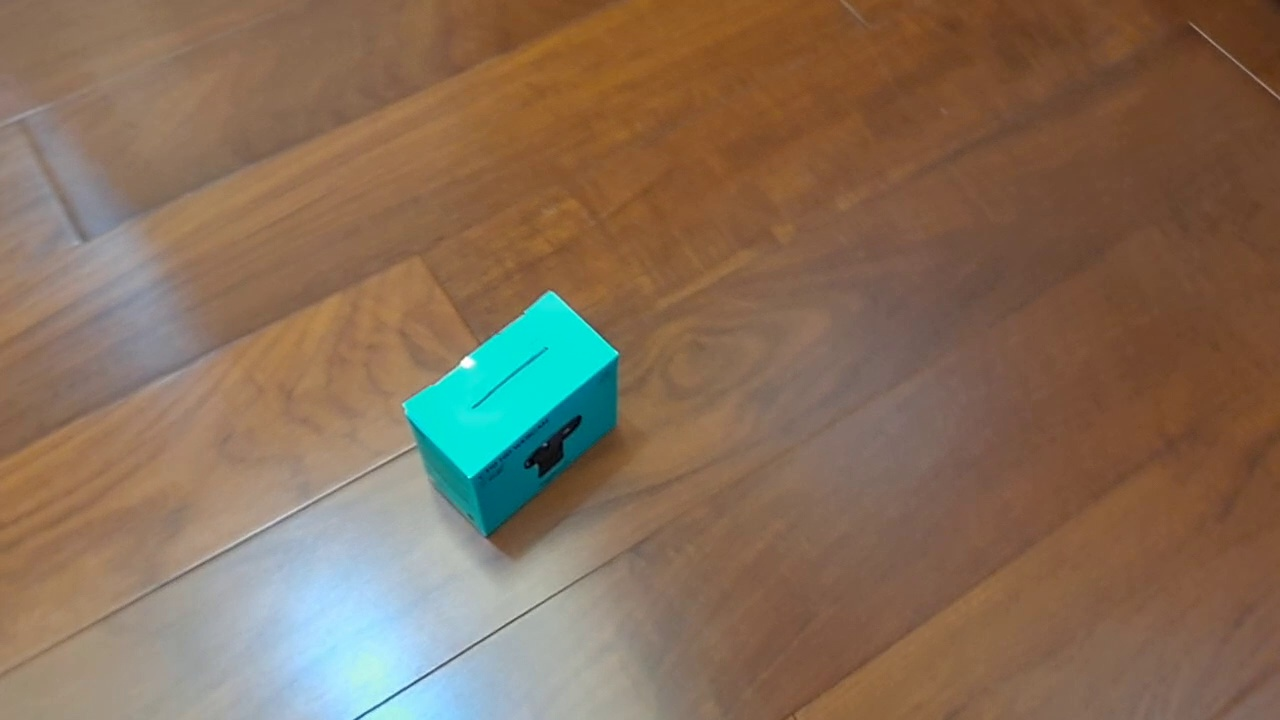webcam: (401, 288, 620, 538)
